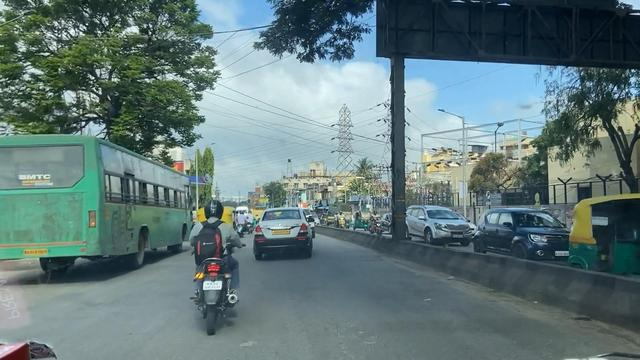HMV: (3, 135, 193, 261)
LMV: (190, 204, 238, 325), (254, 209, 321, 257)
